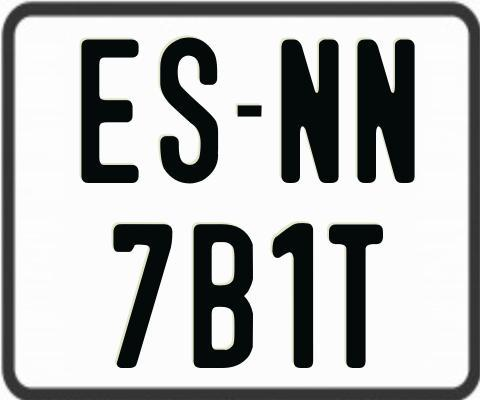1: (271, 223, 313, 372)
7: (113, 221, 174, 371)
B: (194, 223, 253, 368)
E: (79, 37, 143, 183)
N: (278, 37, 339, 187), (356, 39, 414, 188)
S: (158, 37, 219, 184)
T: (329, 222, 389, 372)
